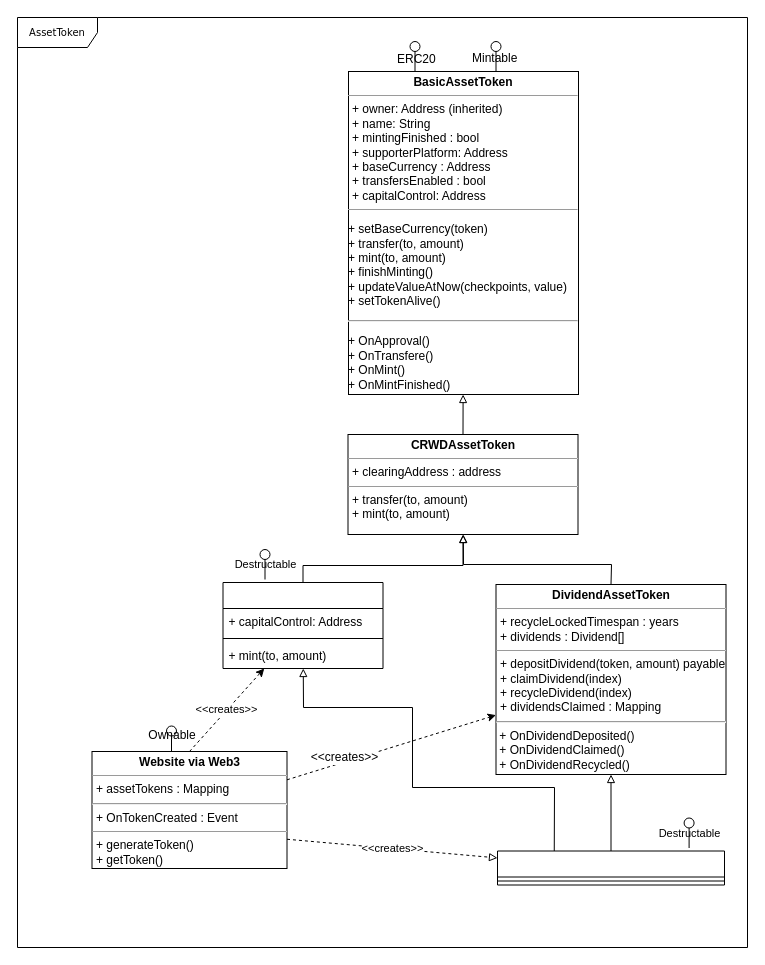
Image size: 765x965. Some labels were removed from this diagram. Here are the shapes that lost their labels. From the top down, the box of each, then its label:
(222, 582, 383, 668): EquityAssetToken
(496, 850, 724, 885): DividendEquityAssetToken
